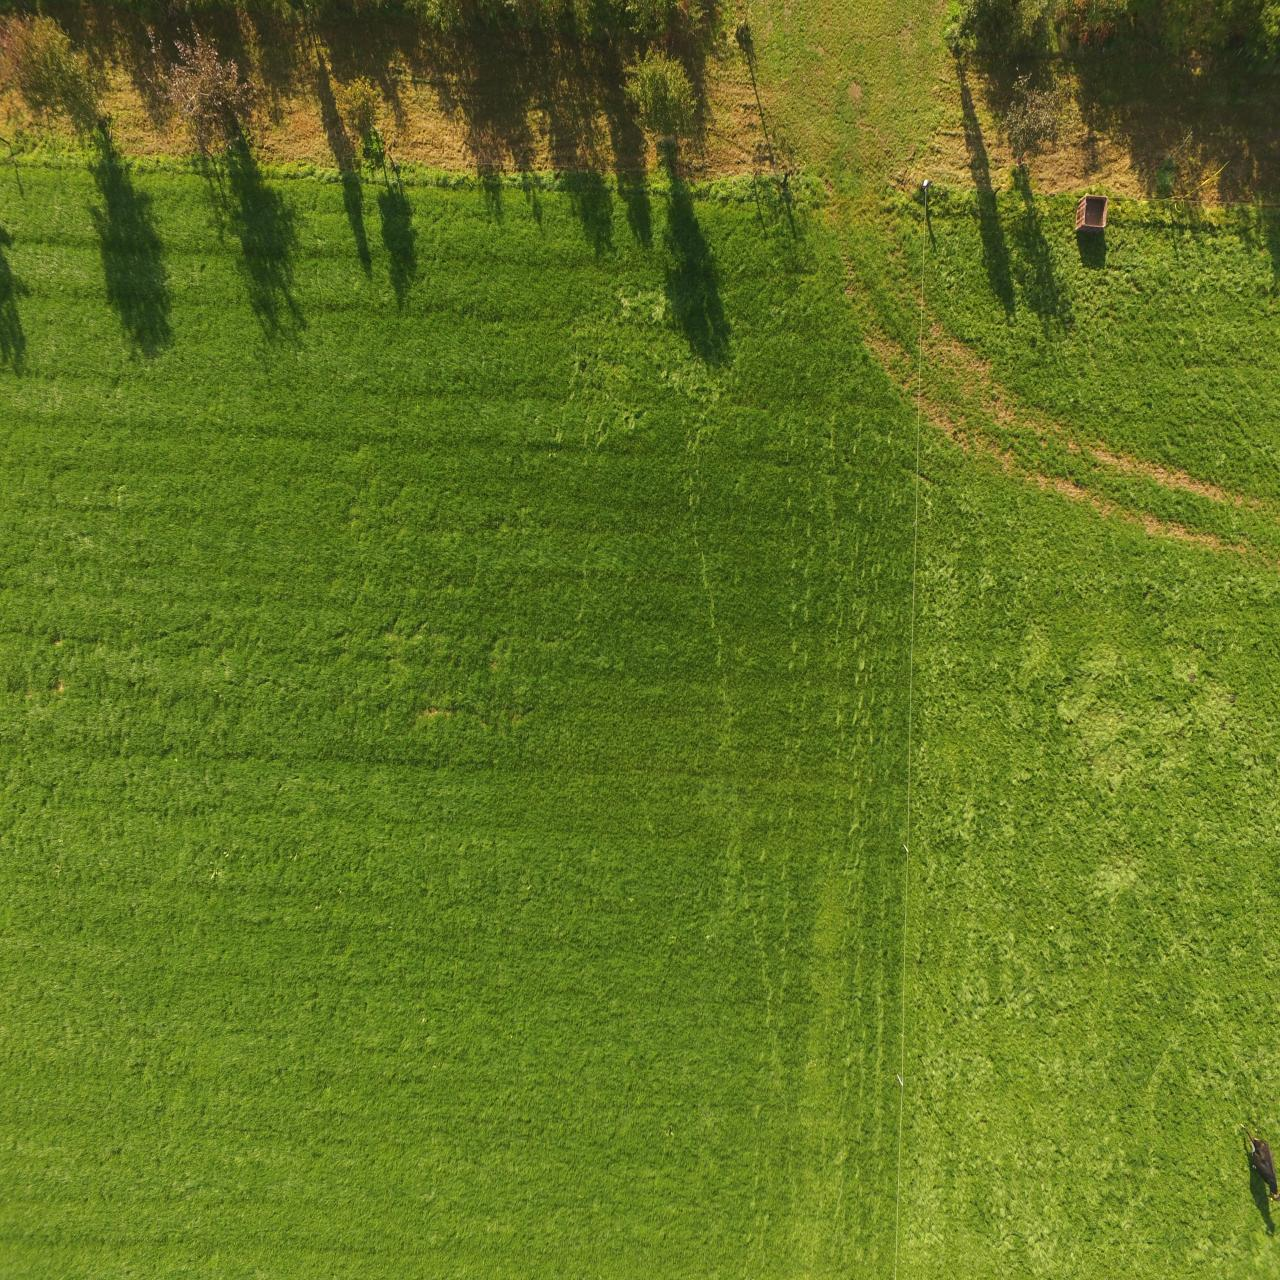cow: (1233, 1112, 1280, 1212)
